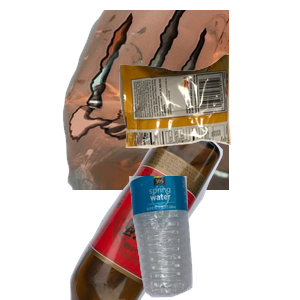glass: (67, 120, 282, 300)
metal: (60, 10, 300, 190)
plastic: (127, 176, 300, 300)
trash: (117, 52, 300, 193)
